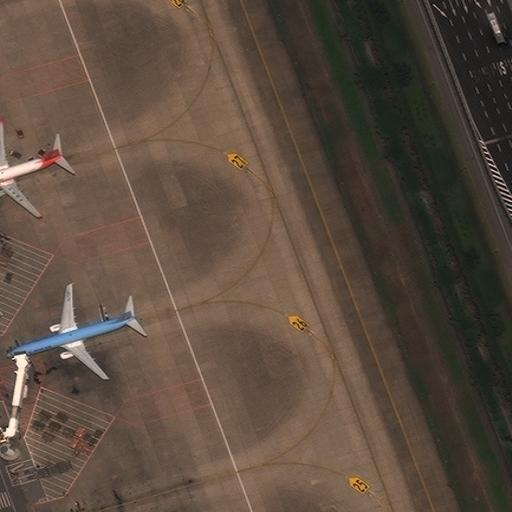Medium Civil Transport: (5, 283, 139, 379), (0, 122, 63, 218)
